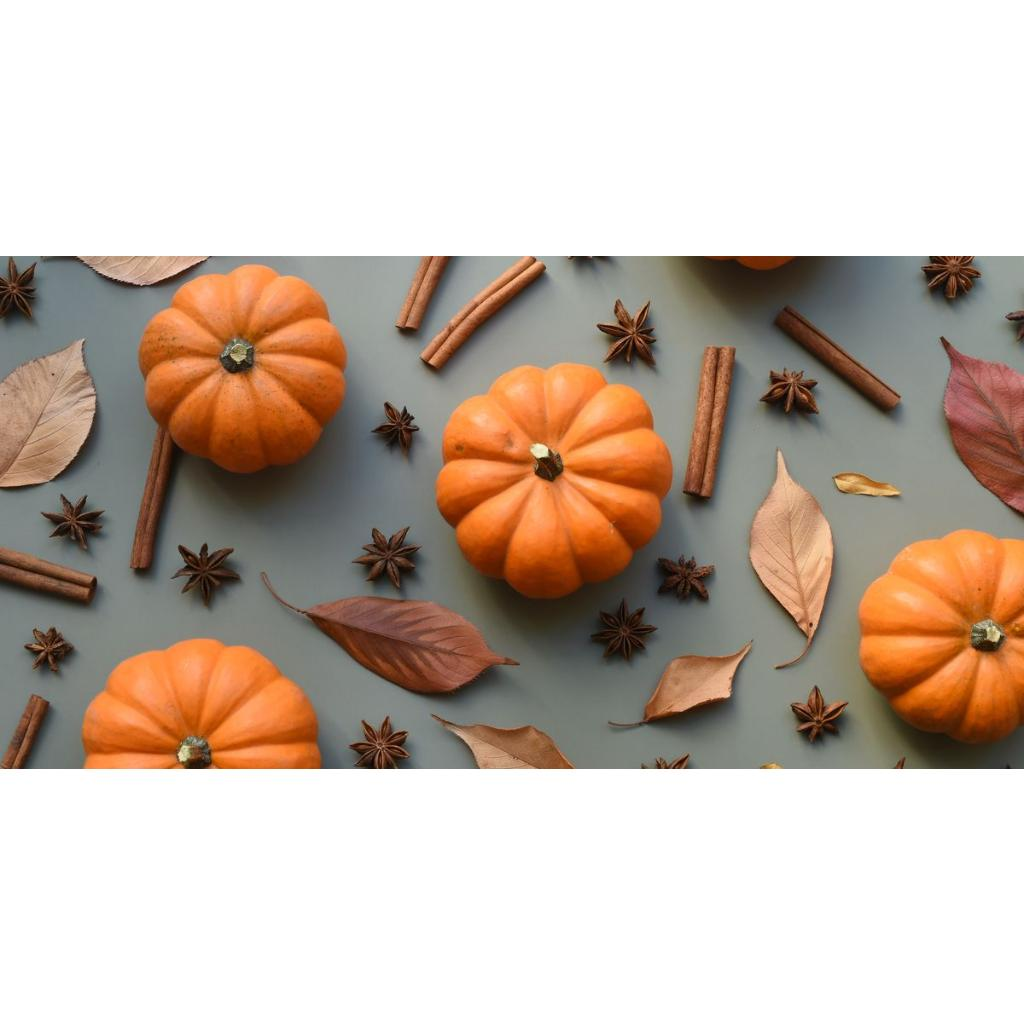pumpkin: (436, 363, 672, 597), (138, 263, 346, 472), (858, 529, 1024, 743), (82, 639, 318, 769)
